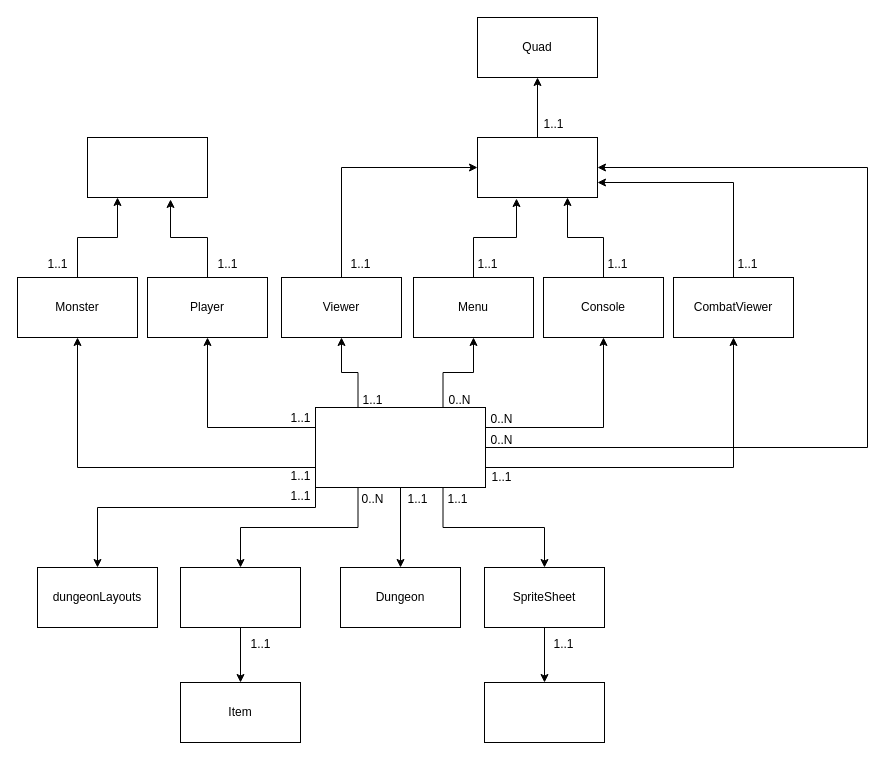
Some shapes in this 893 by 760 pixel diagram are drawn without their labels. The shapes that lost their labels are listed below. From the top down, each one's box as (x1, y1, x2, y2) in pixels, then its label:
(86, 136, 208, 198): Actor
(476, 136, 598, 198): Window
(314, 406, 486, 488): Graphics
(180, 566, 300, 628): Potion
(484, 682, 604, 742): Sprite
